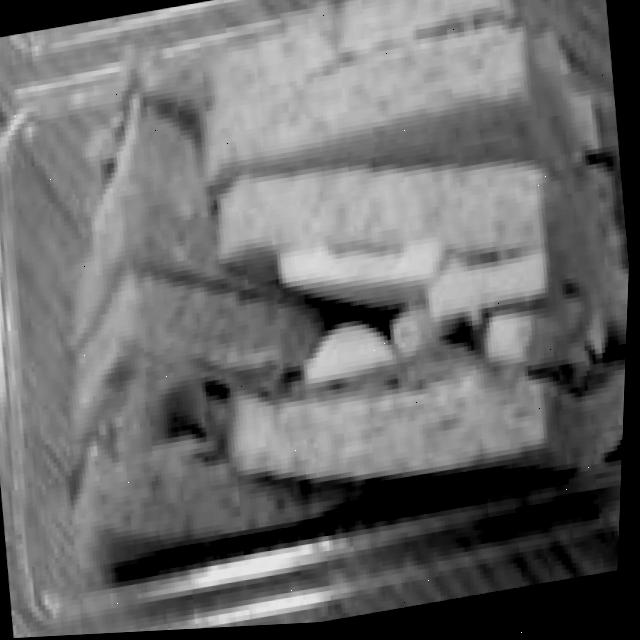三明治: (17, 0, 640, 578)
